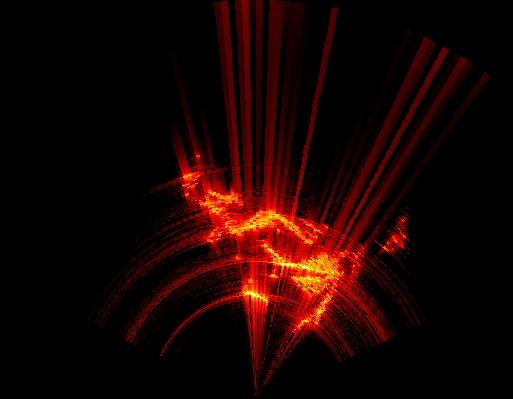shipwreck: (183, 173, 363, 336)
